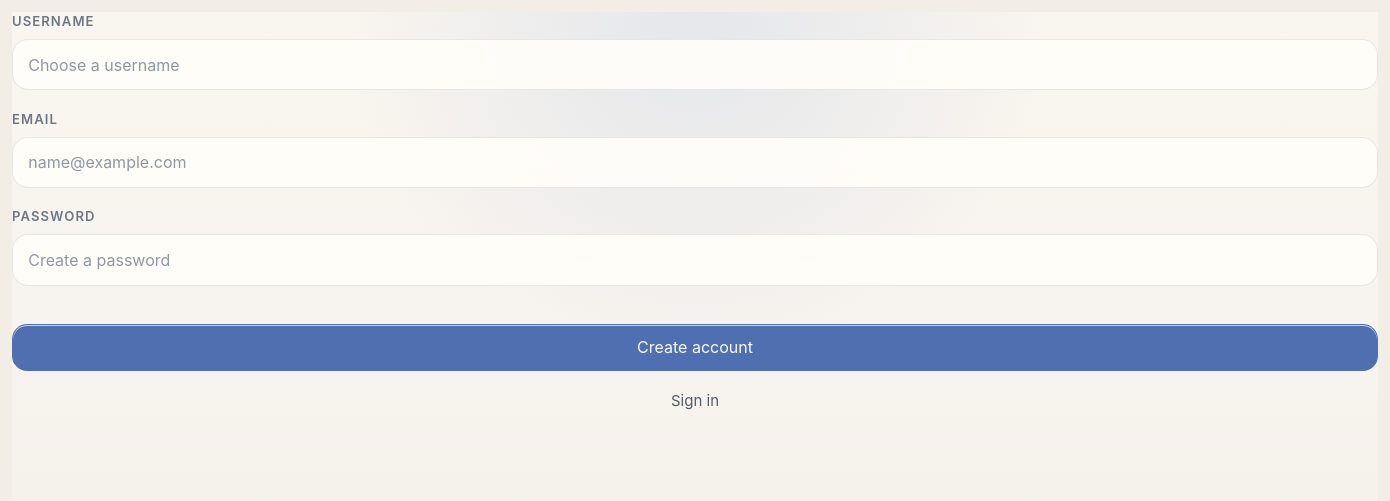
it: RegisterForm › shows the shared calm protection message for captcha failures
Step 1. Type "demo-user" into the field labelled "Username" → (695, 65), box [12,39,1378,90]
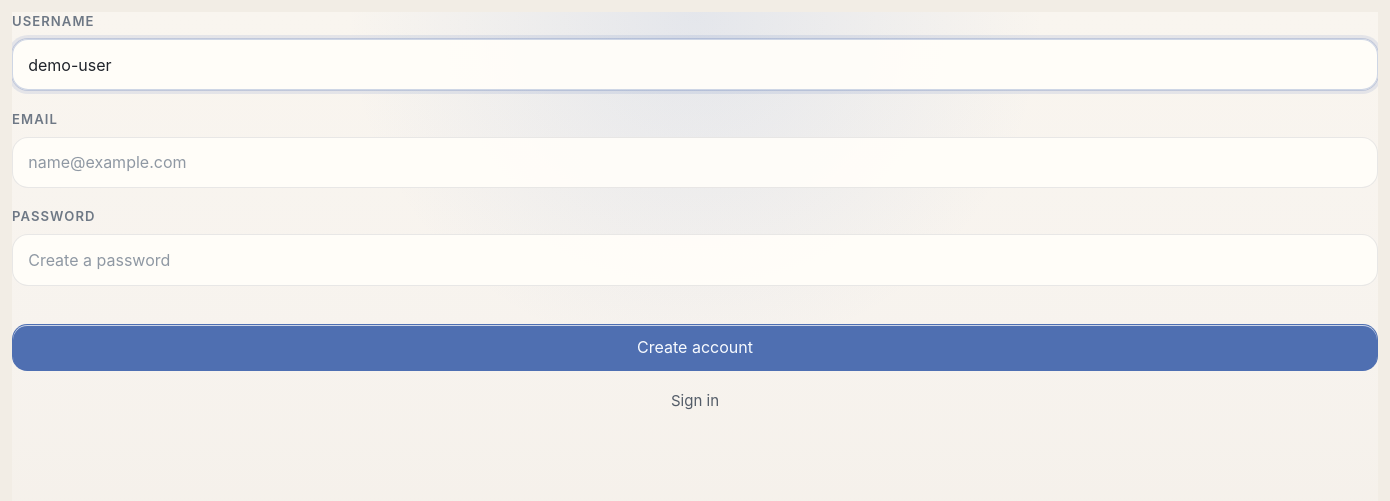
Step 2. Type "demo@example.com" into the field labelled "Email" → (695, 162), box [12,136,1378,188]
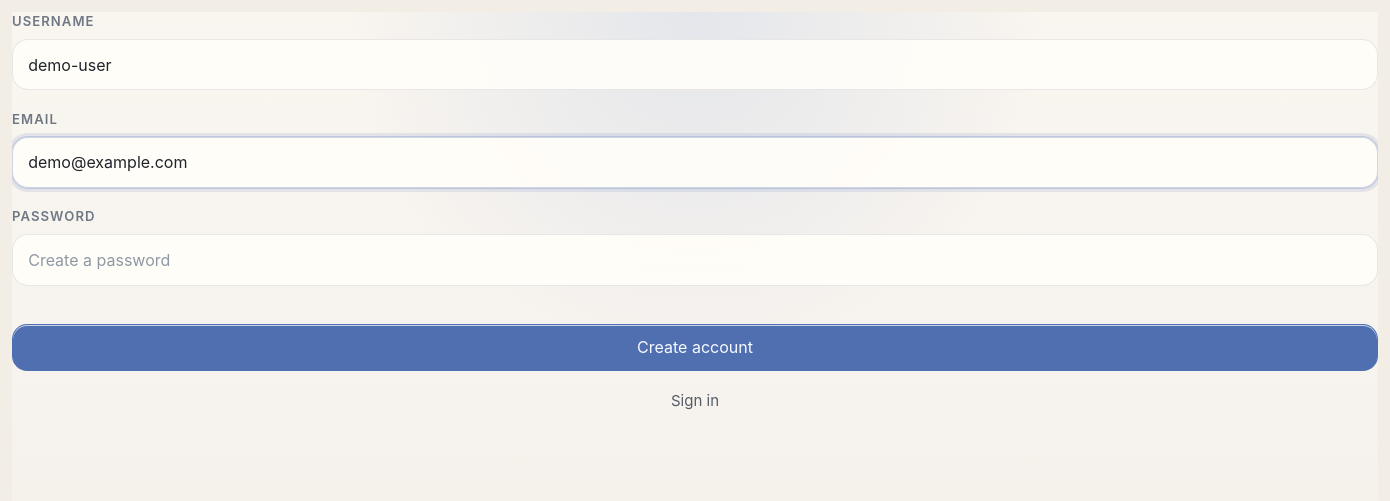
Step 3. Type "very-secret" into the password field labelled "Password" → (695, 260), box [12,234,1378,286]
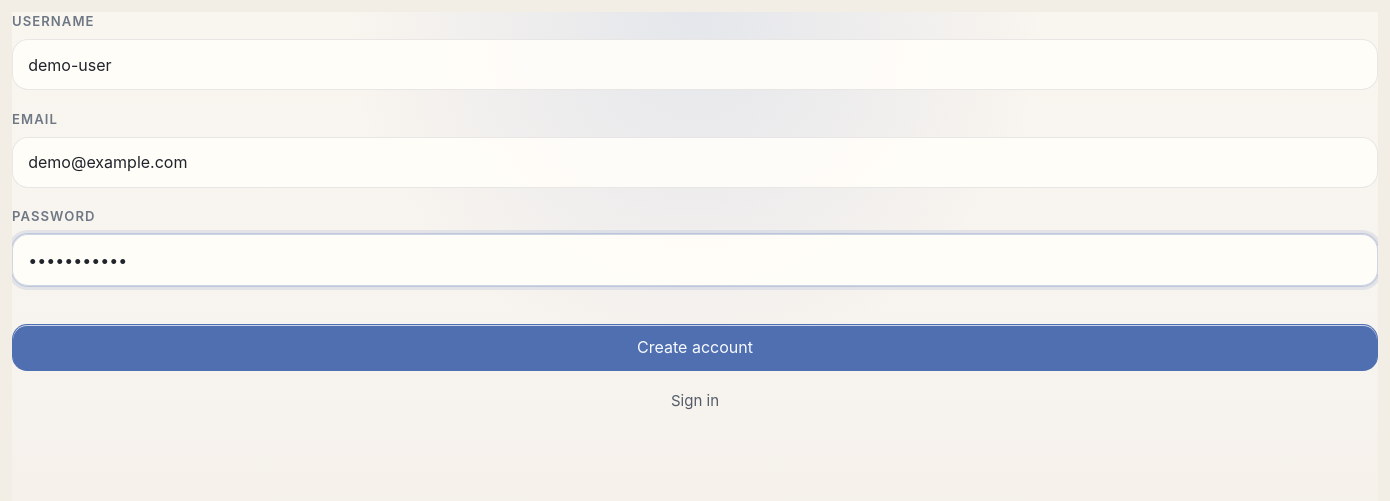
Step 4. Click the button "Create account" → (695, 347), box [12,324,1378,371]
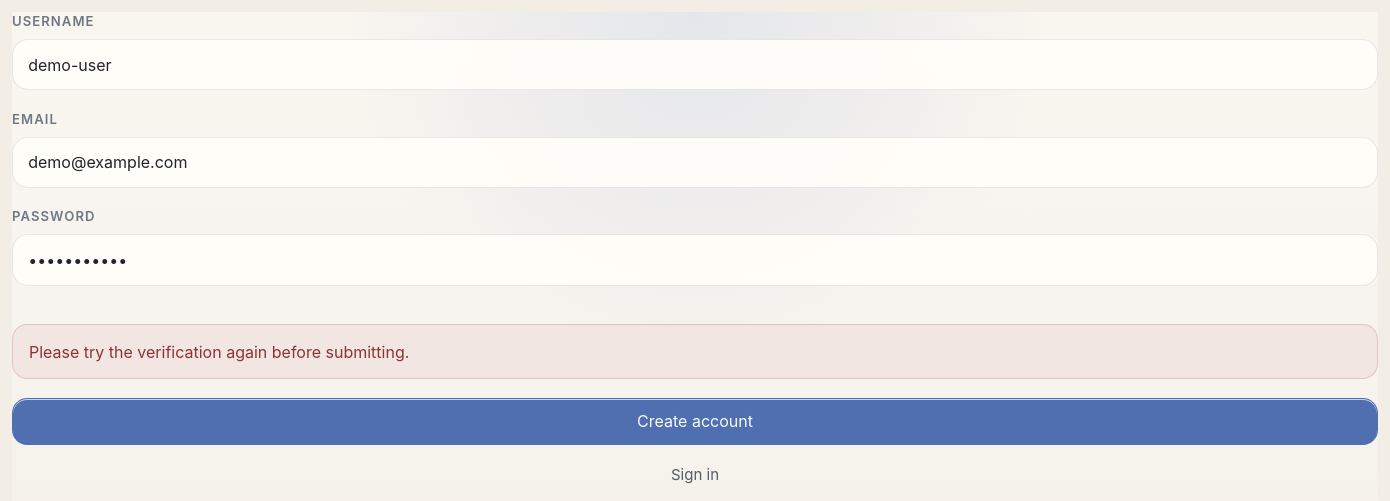
expect the text "Please try the verification again before submitting." is shown: met, box [12,324,1378,379]
